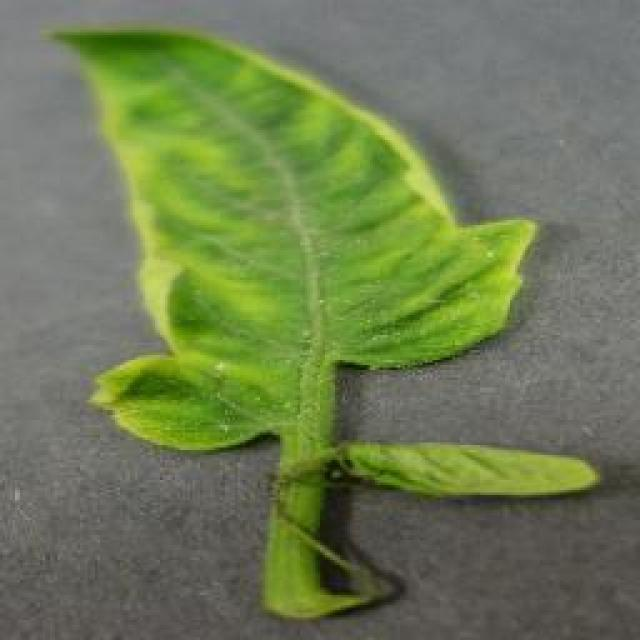Tomato yellow virus leaf: (49, 25, 536, 450), (342, 440, 596, 500)
